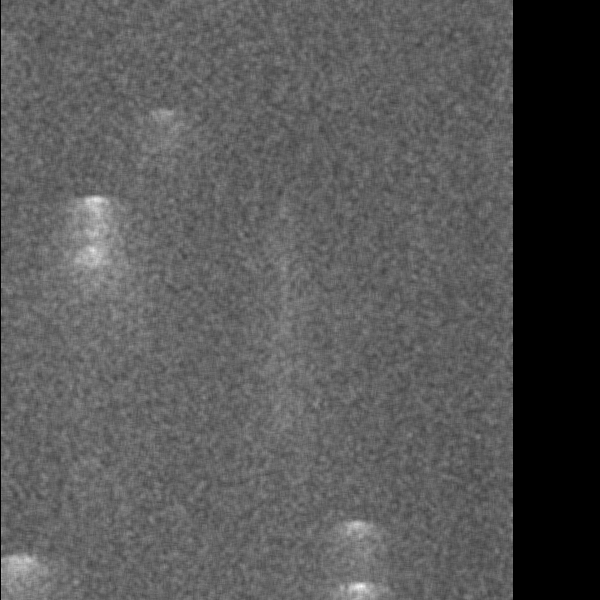spark: (73, 193, 120, 229), (5, 553, 28, 599), (335, 574, 383, 596), (337, 518, 372, 545), (146, 106, 181, 125)
